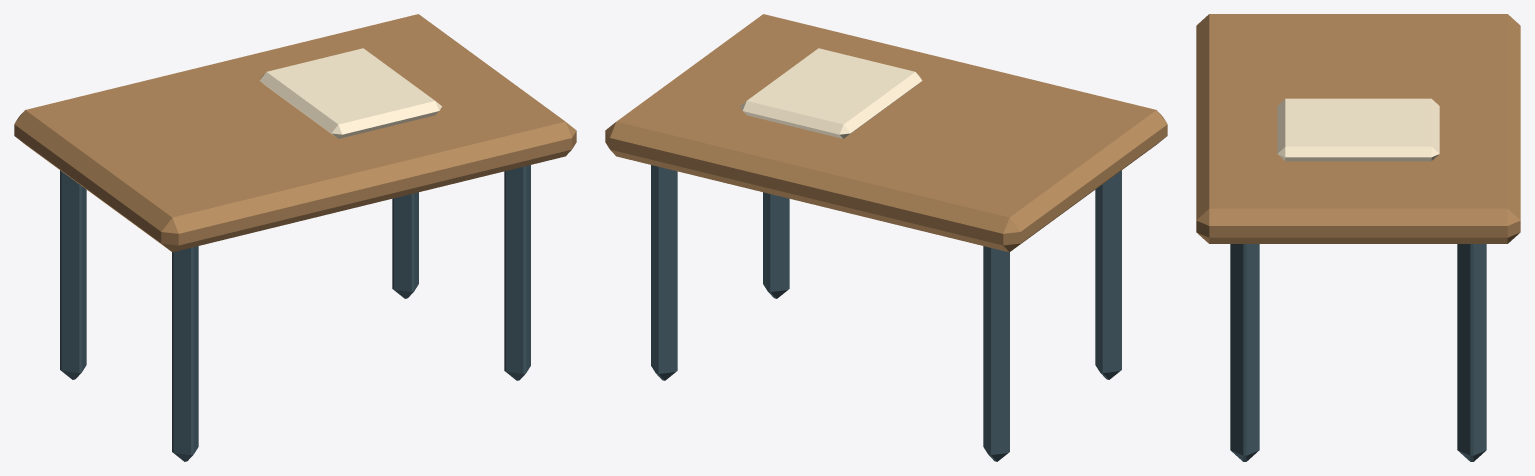
Rendered from study-desk.glb.
The picture shows the model from 3 angles, left to right: view 1: azimuth 30°, elevation 25°; view 2: azimuth 150°, elevation 25°; view 3: azimuth 270°, elevation 25°; orthographic projection.
Parts seen in each view (by area): view 1: desk-top, notebook, desk-leg.002, desk-leg, desk-leg.001, desk-leg.003; view 2: desk-top, notebook, desk-leg.003, desk-leg.001, desk-leg, desk-leg.002; view 3: desk-top, notebook, desk-leg.002, desk-leg.003.
Part boxes in pixels (x1,y1,x2,y2): desk-top: (14,14,576,252); notebook: (259,48,441,138); desk-leg.002: (504,165,530,380); desk-leg: (172,246,198,461); desk-leg.001: (60,170,86,379); desk-leg.003: (392,192,418,298); desk-top: (605,14,1167,252); notebook: (740,48,922,138); desk-leg.003: (651,165,677,380); desk-leg.001: (983,246,1009,461); desk-leg: (1095,170,1121,379); desk-leg.002: (763,192,789,298); desk-top: (1196,14,1520,243); notebook: (1277,98,1439,161); desk-leg.002: (1230,244,1259,461); desk-leg.003: (1457,244,1486,461).
Bounding box in the file's own units: 1.5 × 0.965 × 1.
